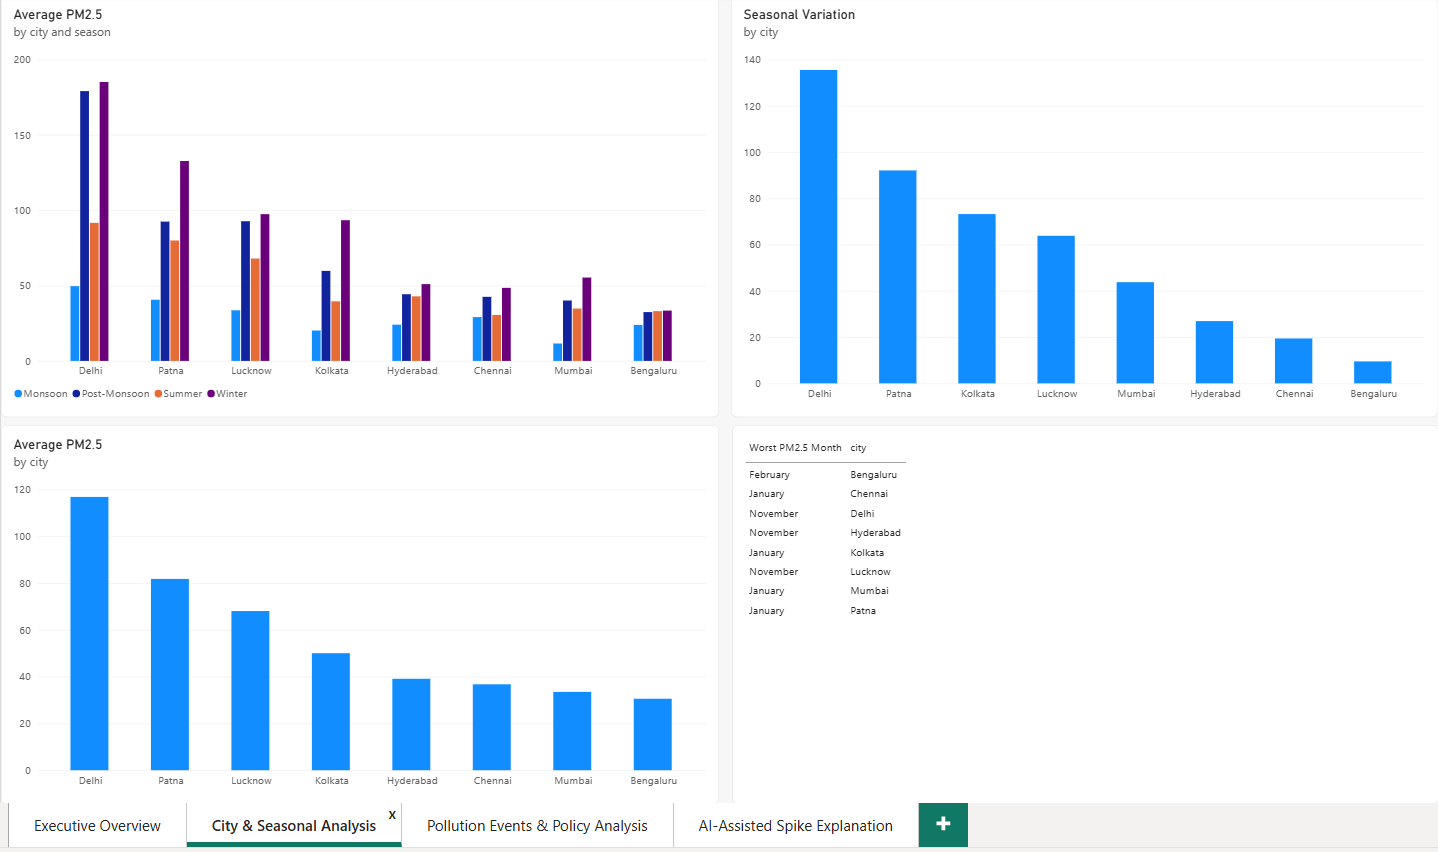

The dashboard page shown, as its layout file describes it:
{"tool":"powerbi","page":{"name":"City & Seasonal Analysis","canvas":[1920,1080],"ordinal":1},"visuals":[{"type":"clusteredColumnChart","fields":{"Category":["powerbi_daily_station_2022_2024.city"],"Series":["powerbi_daily_station_2022_2024.season"],"Y":["powerbi_daily_station_2022_2024.Average PM2.5"]},"box":[0,0,959.2,564],"z":0},{"type":"clusteredColumnChart","fields":{"Category":["powerbi_daily_station_2022_2024.city"],"Y":["powerbi_daily_station_2022_2024.Average PM2.5"]},"box":[0,574.3,959.2,506.3],"z":1},{"type":"clusteredColumnChart","fields":{"Category":["powerbi_daily_station_2022_2024.city"],"Y":["powerbi_daily_station_2022_2024.Seasonal Variation"]},"box":[975.6,0,944.8,564],"z":2},{"type":"tableEx","fields":{"Values":["powerbi_daily_station_2022_2024.Worst PM2.5 Month","powerbi_daily_station_2022_2024.city"]},"box":[976,574,944,506],"z":3}]}

Visuals, with their boxes on the page's 1920x1080 design canvas (x1, y1, x2, y2). These are canvas units, not pixel positions in the 1438x852 screenshot, which may show the page scaled, cropped or inside an application window:
clusteredColumnChart - powerbi_daily_station_2022_2024.city x powerbi_daily_station_2022_2024.season: x1=0, y1=0, x2=959, y2=564
clusteredColumnChart - powerbi_daily_station_2022_2024.city x powerbi_daily_station_2022_2024.Average PM2.5: x1=0, y1=574, x2=959, y2=1081
clusteredColumnChart - powerbi_daily_station_2022_2024.city x powerbi_daily_station_2022_2024.Seasonal Variation: x1=976, y1=0, x2=1920, y2=564
tableEx - powerbi_daily_station_2022_2024.Worst PM2.5 Month x powerbi_daily_station_2022_2024.city: x1=976, y1=574, x2=1920, y2=1080
